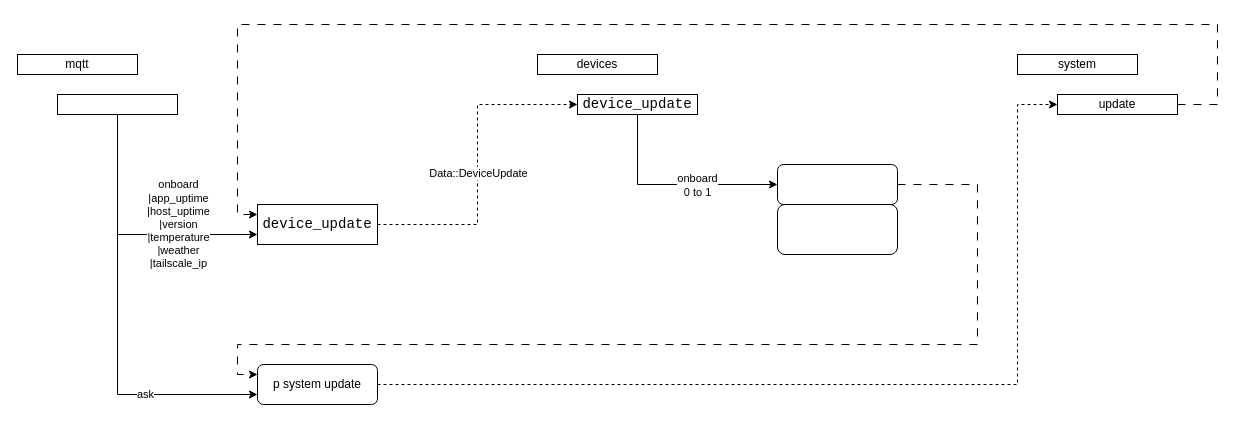
Some shapes in this 1243 by 422 pixel diagram are drawn without their labels. The centre of each missing label's shape, as x and y in pixels:
ask "device_name" p nas update (if pi5): the point at 837,229
ask "device_name" p system update: the point at 837,184
process_event: the point at 117,104
